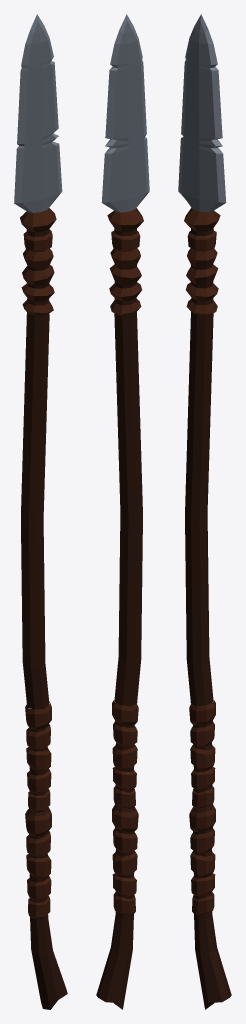
The model's file is Spear.glb.
3 renders of one model, left to right at view 1: azimuth 30°, elevation 25°; view 2: azimuth 210°, elevation 25°; view 3: azimuth 330°, elevation 25°, orthographic.
Visible parts, largest first — view 1: Spear; view 2: Spear; view 3: Spear.
Part boxes in pixels (<box>): Spear: <box>14,14,67,1009</box>; Spear: <box>96,14,149,1009</box>; Spear: <box>178,14,231,1009</box>.
Size of the model in its own units: 0.0546 by 1 by 0.0334.
